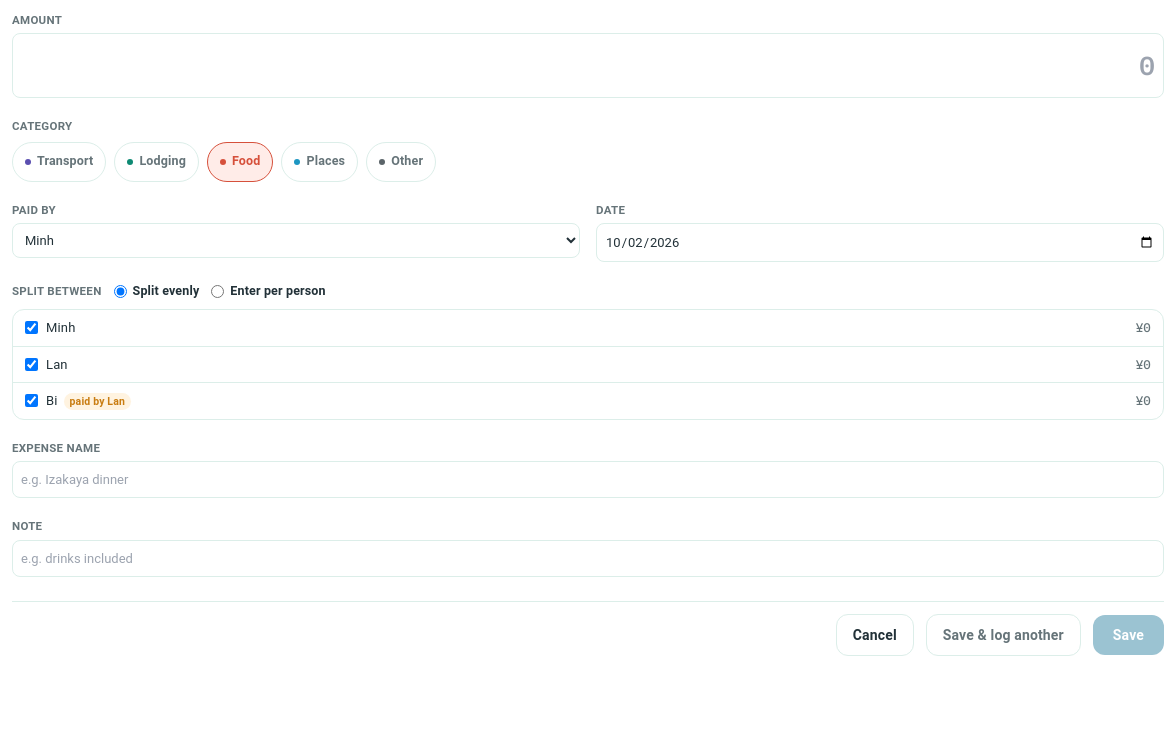
it: Ghi chi tiêu › chuyển sang "Nhập riêng" thì điền sẵn số của chế độ chia đều
Type "900" into the field named "Amount". click: [588, 66]
box: [12,33,1164,98]
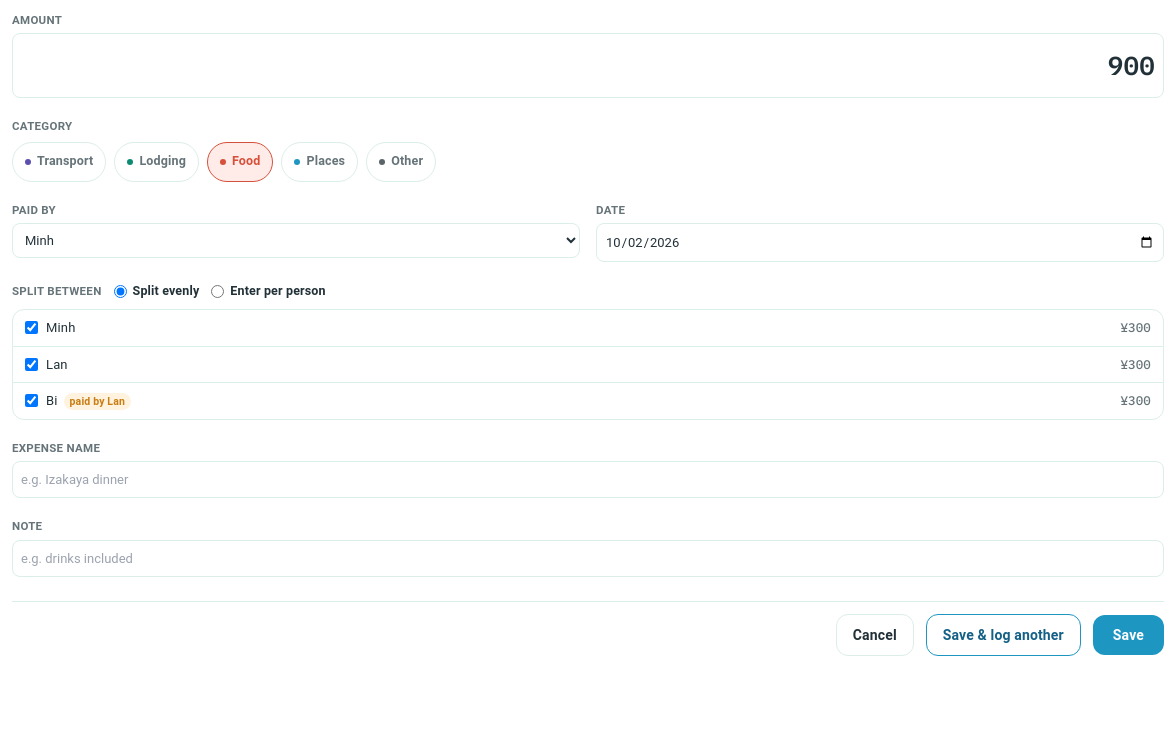
Click the radio button labelled "Enter per person". click: [218, 292]
box: [211,285,224,298]
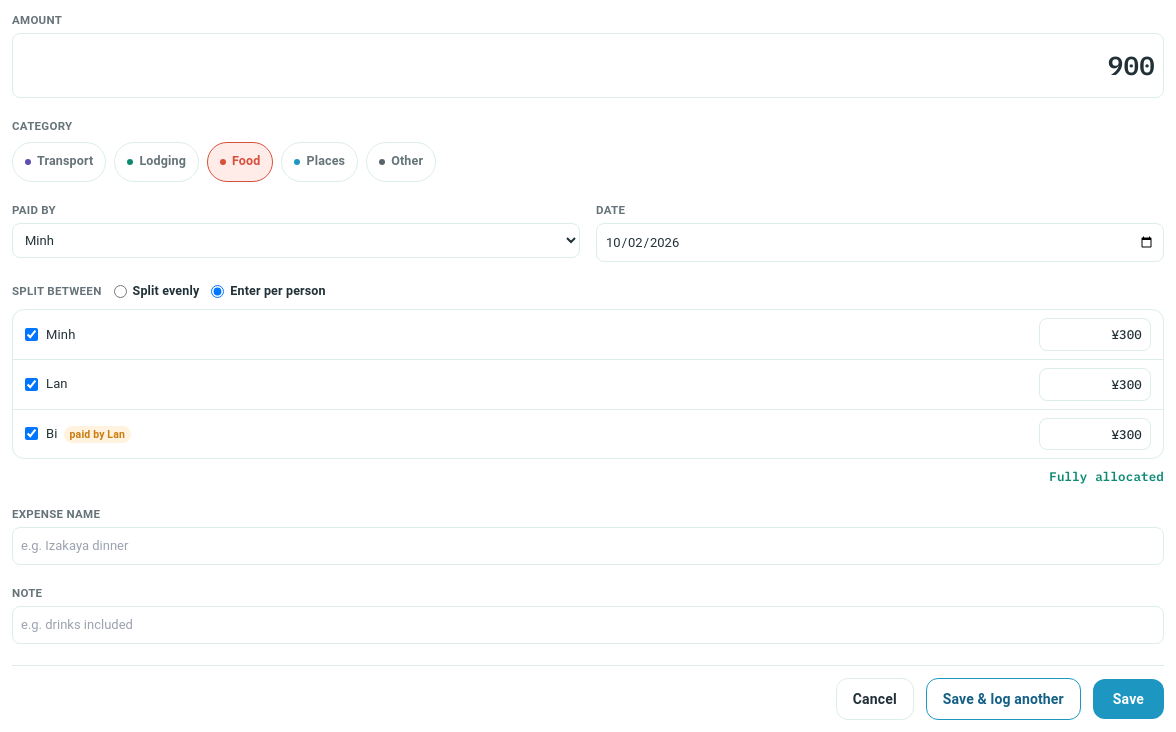
Now the number of fields showing "¥300" is 3, box [1039,318,1151,351]; [1039,368,1151,401]; [1039,418,1151,450]
Now the text "Fully allocated" is shown, box [1049,467,1164,486]
